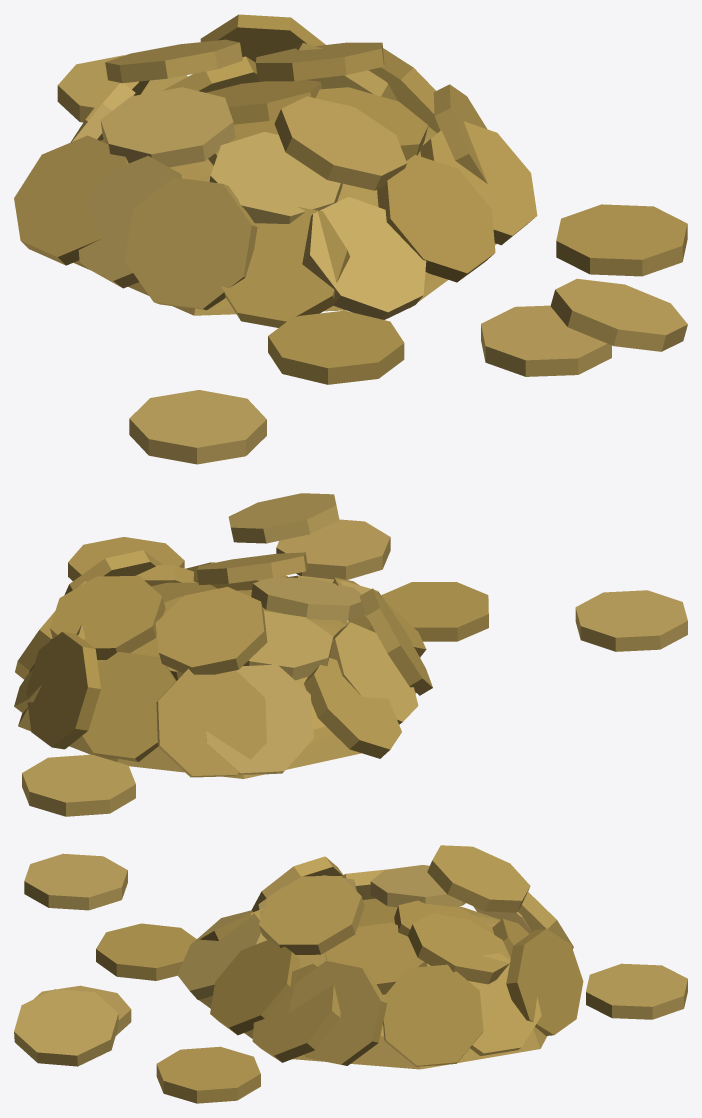
The model's file is spilled-coin-pile.glb.
3 views of the same model, one above another, from view 1: azimuth 30°, elevation 25°; view 2: azimuth 150°, elevation 25°; view 3: azimuth 270°, elevation 25° (orthographic). The views are drawn at different scales.
Visible parts, largest first — view 1: coin-pile; view 2: coin-pile; view 3: coin-pile.
Boxes of the visible parts, left/top/right/bottom form: coin-pile: left=14, top=14, right=687, bottom=464; coin-pile: left=14, top=493, right=687, bottom=816; coin-pile: left=14, top=845, right=687, bottom=1103.
Size of the model in its own units: 0.3465 by 0.0829 by 0.4164.
